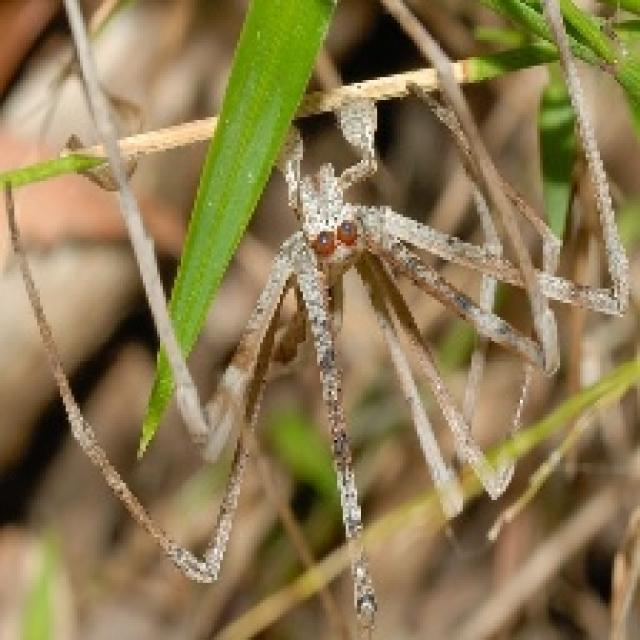Non venomous spider: (38, 32, 626, 628)
